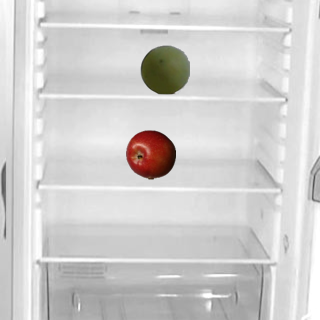Apple Braeburn: (125, 129, 175, 179)
Grape White 4: (139, 44, 189, 94)
